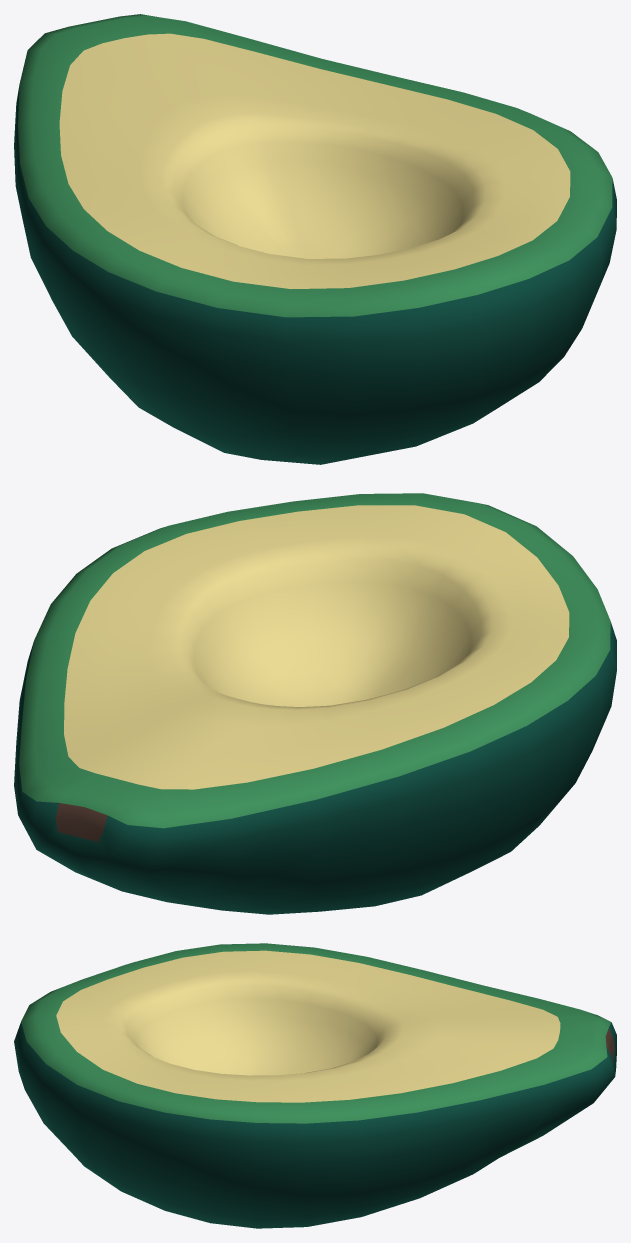
The model's file is Avocado_03.dae.
The picture shows the model from 3 angles, top to bottom: view 1: azimuth 30°, elevation 25°; view 2: azimuth 150°, elevation 25°; view 3: azimuth 270°, elevation 25°; orthographic projection. The views are drawn at different scales.
Visible parts, largest first — view 1: Avocado_03_LOD0; view 2: Avocado_03_LOD0; view 3: Avocado_03_LOD0.
Part boxes in pixels (box(x1,y1,x2,y2)): Avocado_03_LOD0: box(14, 14, 616, 464); Avocado_03_LOD0: box(14, 493, 616, 914); Avocado_03_LOD0: box(14, 943, 616, 1228).
Size of what is drawn, in the model's own units: 3.36 by 4.68 by 1.65.
